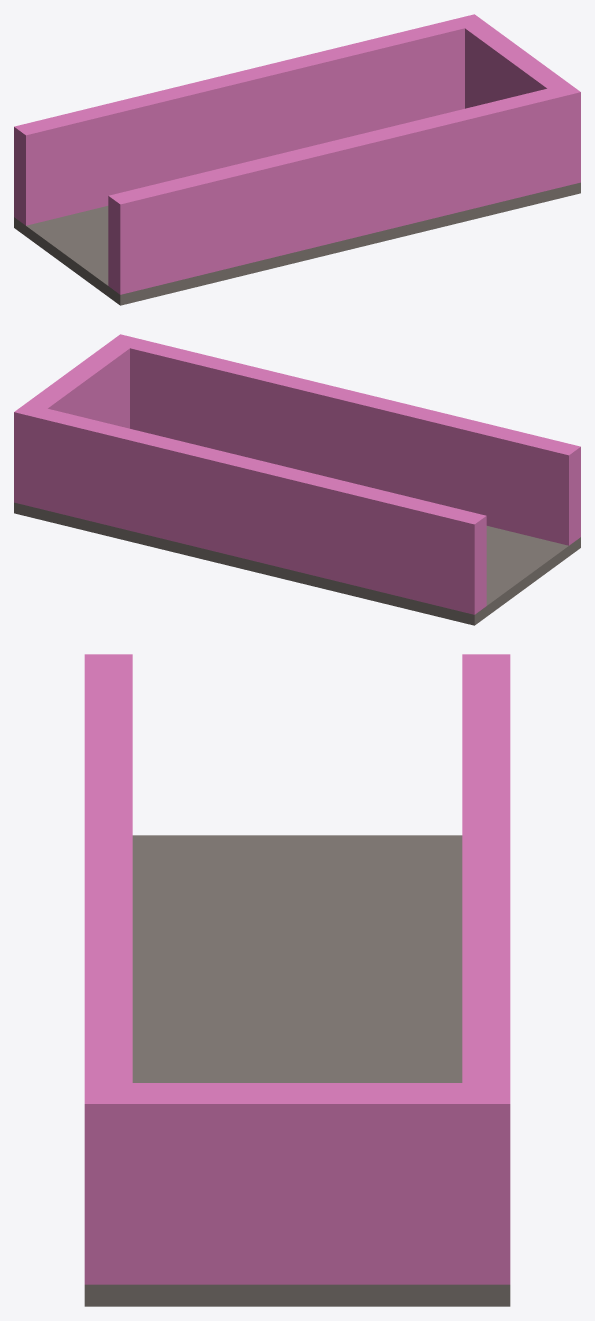
File: I_wayCap.fbx
3 views of the same model, one above another, from view 1: azimuth 30°, elevation 25°; view 2: azimuth 150°, elevation 25°; view 3: azimuth 270°, elevation 25° (orthographic). The views are drawn at different scales.
Parts seen in each view (by area): view 1: I_wayCap; view 2: I_wayCap; view 3: I_wayCap.
Boxes of the visible parts, <box> form: I_wayCap: <box>14,14,580,305</box>; I_wayCap: <box>14,334,580,625</box>; I_wayCap: <box>84,654,510,1306</box>.
Size of the model in its own units: 2000 by 420 by 800.
